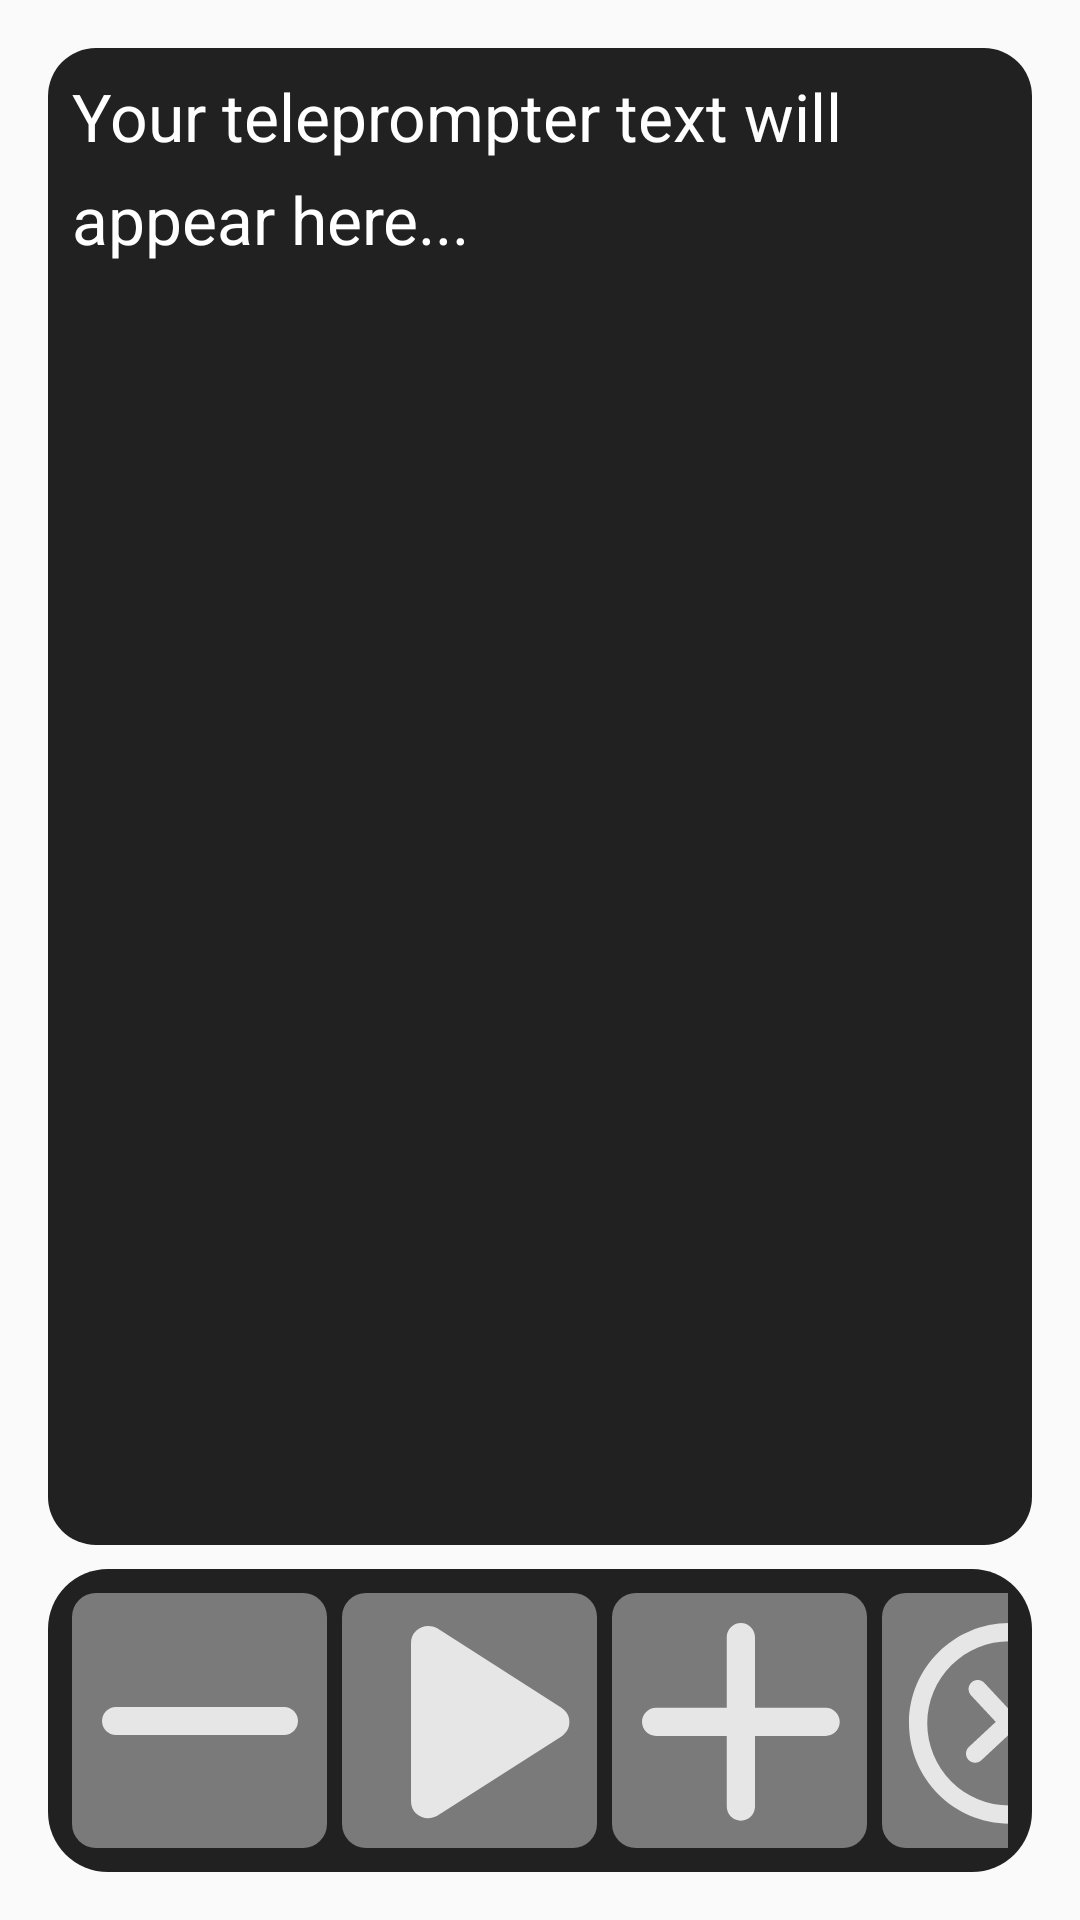

Icon bounding boxes for this 1080x1920 phone screenshot, format (x1, y1, x2, y2):
Decrease scroll speed: (72, 1593, 327, 1848)
Increase scroll speed: (612, 1593, 867, 1848)
Play or pause scrolling: (342, 1593, 597, 1848)
